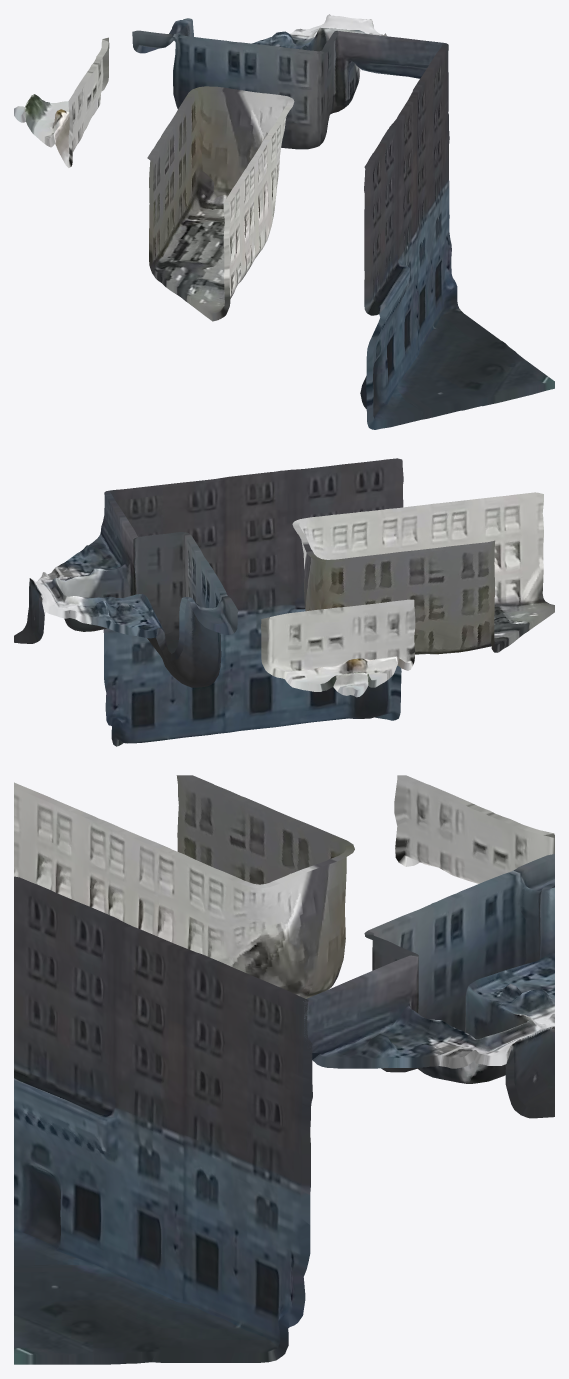
Rendered from z20-167795-405230-h0-yup-uvflip-v3-world.glb.
The picture shows the model from 3 angles, top to bottom: view 1: azimuth 30°, elevation 25°; view 2: azimuth 150°, elevation 25°; view 3: azimuth 270°, elevation 25°; orthographic projection. The views are drawn at different scales.
Size of the model in its own units: 30.16 by 22.44 by 30.32.
1 material, 1 textured.
